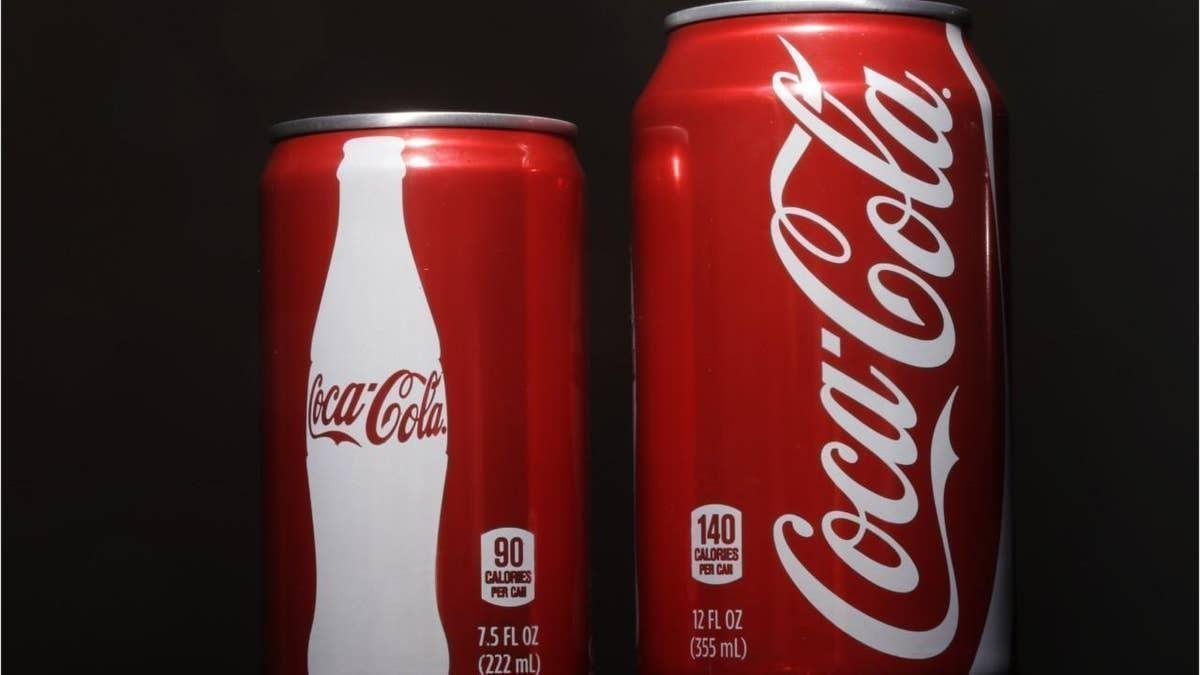tin can: (623, 0, 1018, 674), (257, 108, 599, 674)
